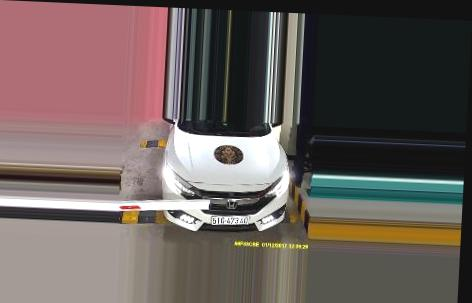License_Plate: (211, 214, 252, 228)
